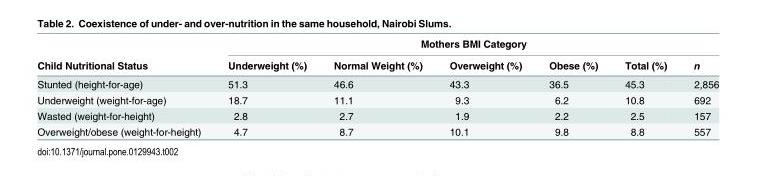table: (36, 37, 718, 136)
table column: (36, 37, 213, 136), (319, 37, 435, 136), (213, 37, 319, 136), (435, 37, 534, 136), (534, 37, 610, 136), (610, 37, 679, 136), (679, 37, 718, 136)
table column header: (36, 37, 718, 74)
table row: (36, 53, 718, 74), (36, 74, 718, 91), (36, 37, 718, 53), (36, 91, 718, 107), (36, 107, 718, 123), (36, 123, 718, 136)
table spanning cell: (213, 37, 718, 53), (36, 37, 213, 74)
